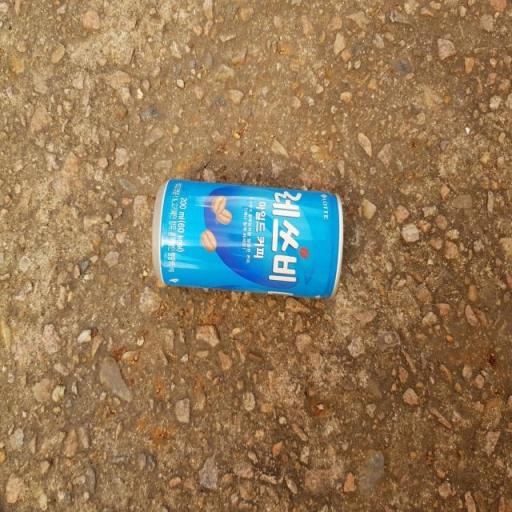metal: (140, 164, 366, 338)
